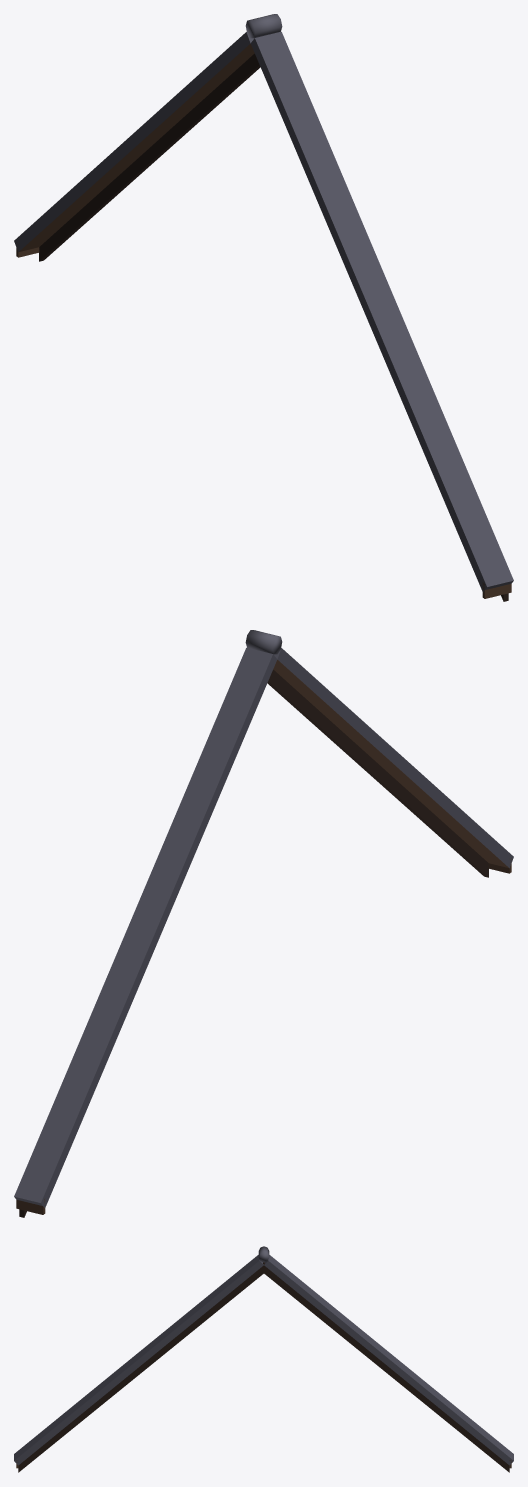
Rendered from kit_timber_slate_w6_end.glb.
3 views of the same model, one above another, from view 1: azimuth 30°, elevation 25°; view 2: azimuth 150°, elevation 25°; view 3: azimuth 270°, elevation 25° (orthographic). The views are drawn at different scales.
Visible parts, largest first — view 1: kit_timber_slate_w6_end; view 2: kit_timber_slate_w6_end; view 3: kit_timber_slate_w6_end.
Boxes of the visible parts, box(x1,y1,x2,y2) form: kit_timber_slate_w6_end: box(14, 14, 513, 601); kit_timber_slate_w6_end: box(14, 630, 513, 1217); kit_timber_slate_w6_end: box(14, 1246, 513, 1472).
Bounding box in the file's own units: 0.22 × 3.26 × 6.72.
